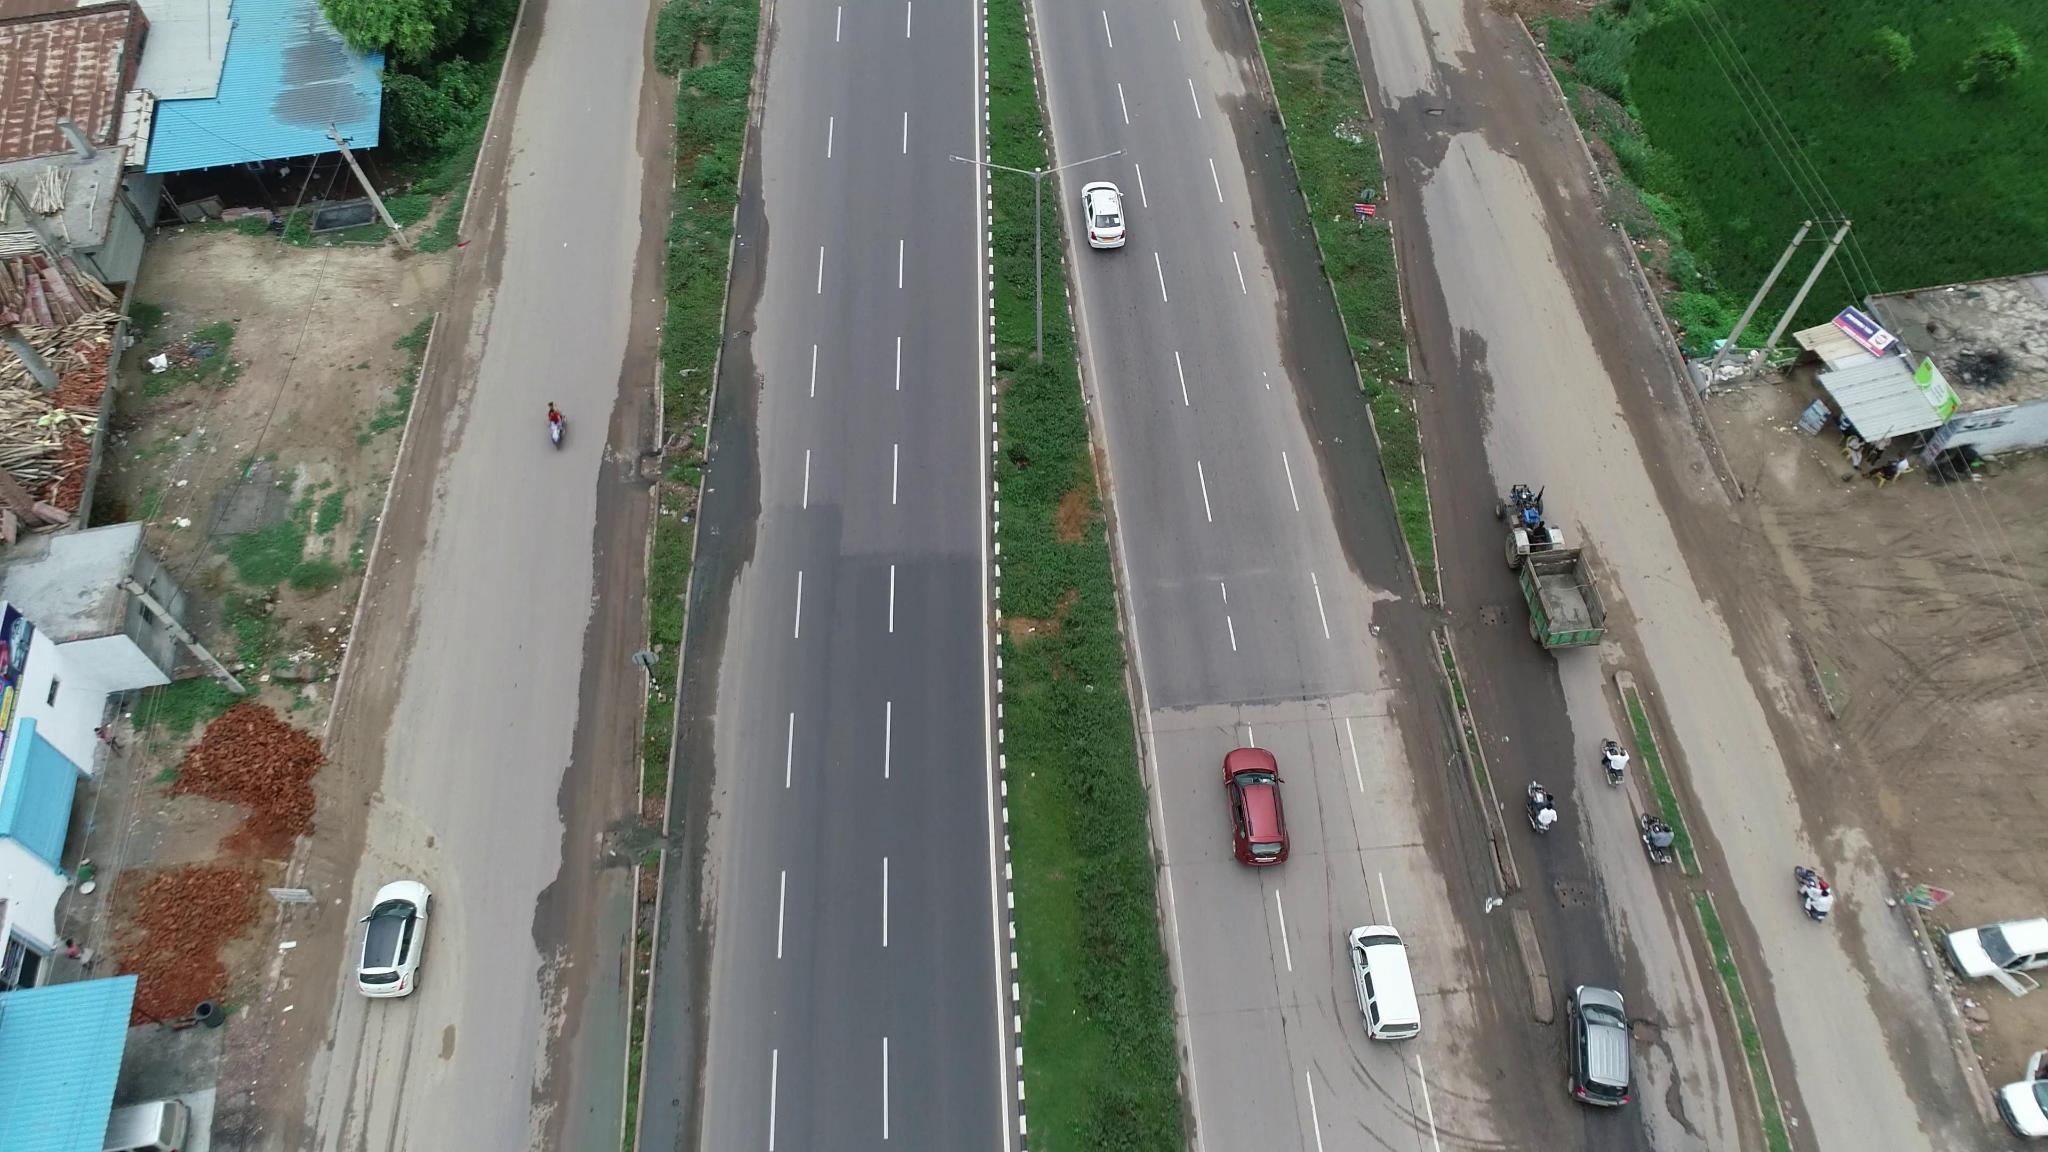Potholes: (1414, 91, 1468, 141), (1627, 1016, 1689, 1056)
